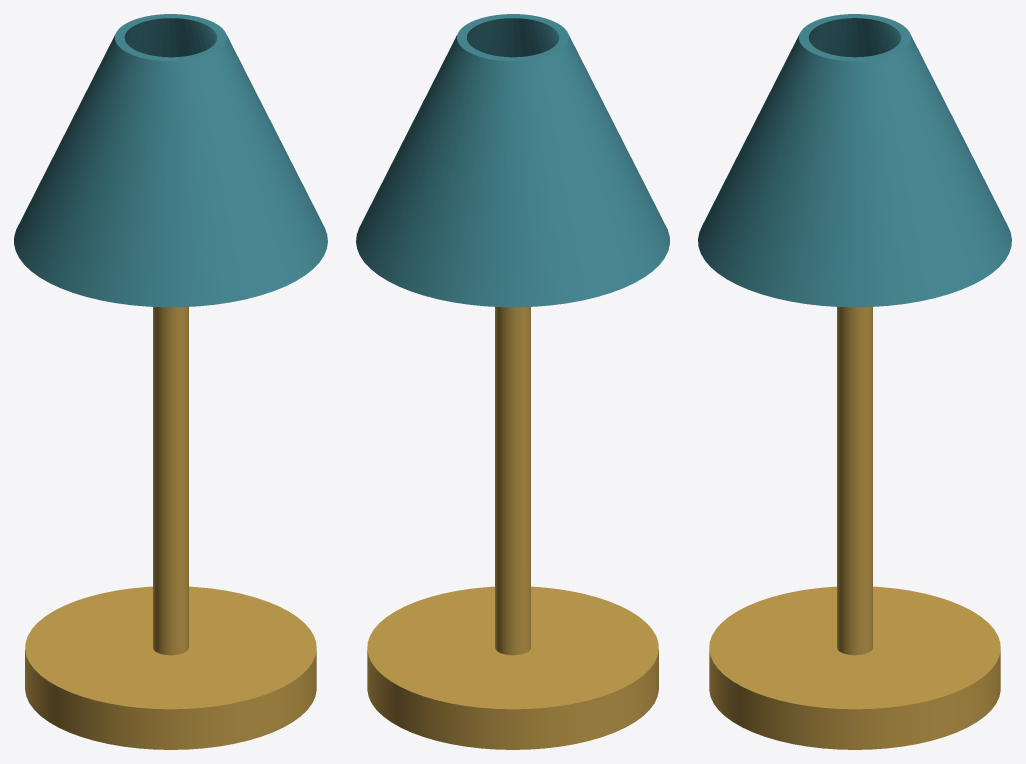
The model's file is asm_details.glb.
3 renders of one model, left to right at view 1: azimuth 30°, elevation 25°; view 2: azimuth 150°, elevation 25°; view 3: azimuth 270°, elevation 25°, orthographic.
Visible parts, largest first — view 1: shade, base; view 2: shade, base; view 3: shade, base.
Part boxes in pixels (x1,y1,x2,y2): shade: (14, 14, 327, 307); base: (25, 307, 316, 749); shade: (356, 14, 669, 307); base: (367, 307, 658, 749); shade: (698, 14, 1011, 307); base: (709, 307, 1000, 749).
Size of the model in its own units: 0.0699 by 0.16 by 0.07.
